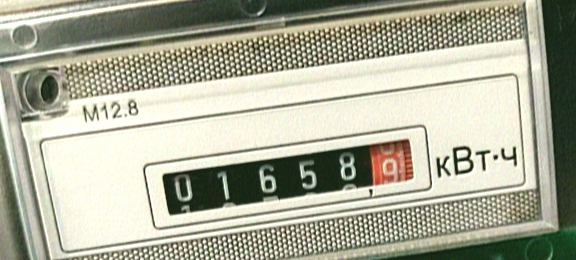0: (171, 171, 196, 203)
1: (214, 168, 236, 202)
5: (296, 157, 321, 191)
6: (256, 160, 280, 196)
8: (336, 148, 360, 182)
9: (377, 156, 402, 186)
screen: (132, 112, 441, 239)
